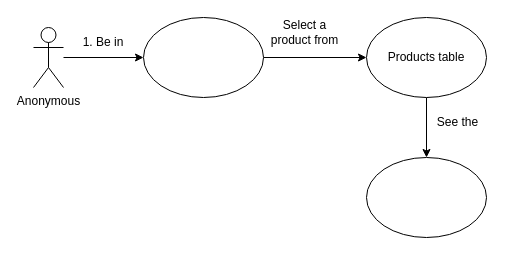
The diagram is 517 pixels wide and 255 high, and some of its shapes have lost their labels. Here are the shapes that lost their labels. From the top down, the centre of each, then its label:
At (x=203, y=57): "Home Page".
At (x=426, y=197): "Product".
